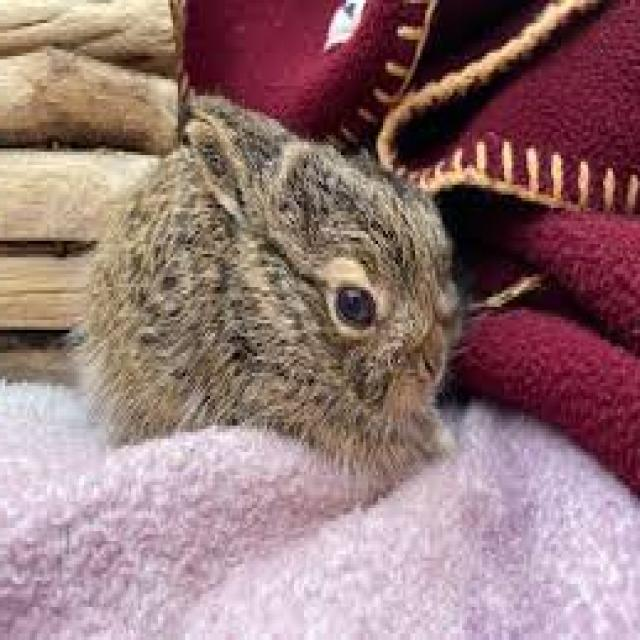hare: (79, 96, 465, 488)
